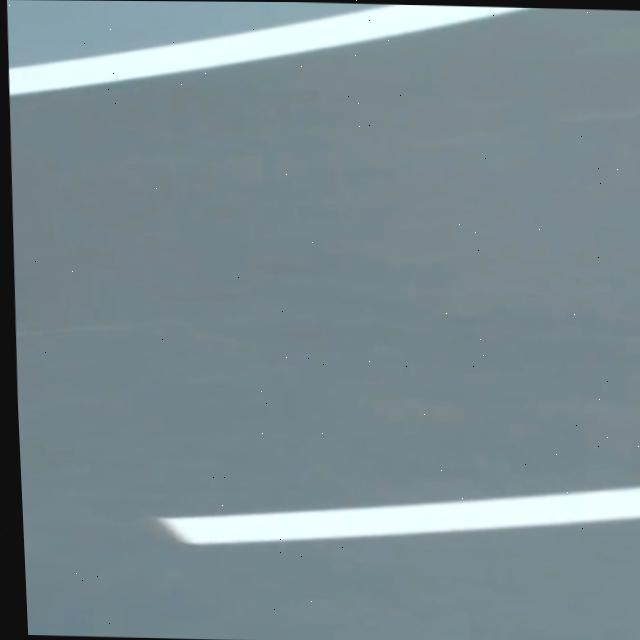center: (157, 485, 640, 543)
left: (7, 4, 533, 94)
